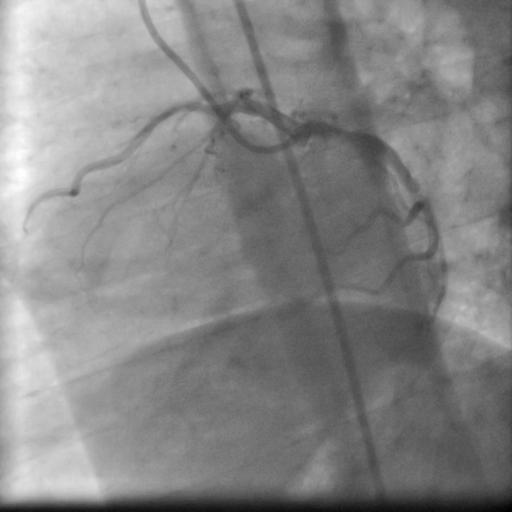Stenosis: (409, 184, 426, 201)
